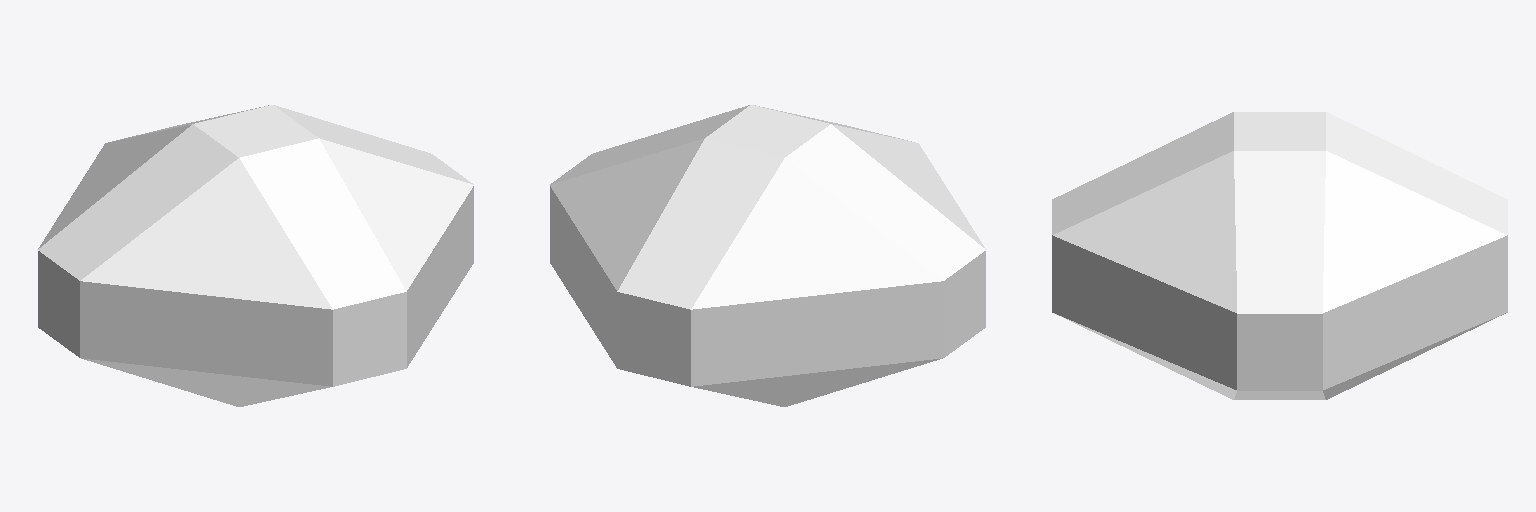
3 renders of one model, left to right at view 1: azimuth 30°, elevation 25°; view 2: azimuth 150°, elevation 25°; view 3: azimuth 270°, elevation 25°, orthographic.
Visible parts, largest first — view 1: 立方体; view 2: 立方体; view 3: 立方体.
Boxes of the visible parts, x1,y1,x2,y2 form: 立方体: [38, 105, 473, 406]; 立方体: [550, 105, 985, 406]; 立方体: [1052, 112, 1507, 399].
Bounding box in the file's own units: 3.2 × 1.94 × 3.2.
1 materials, 1 textured.